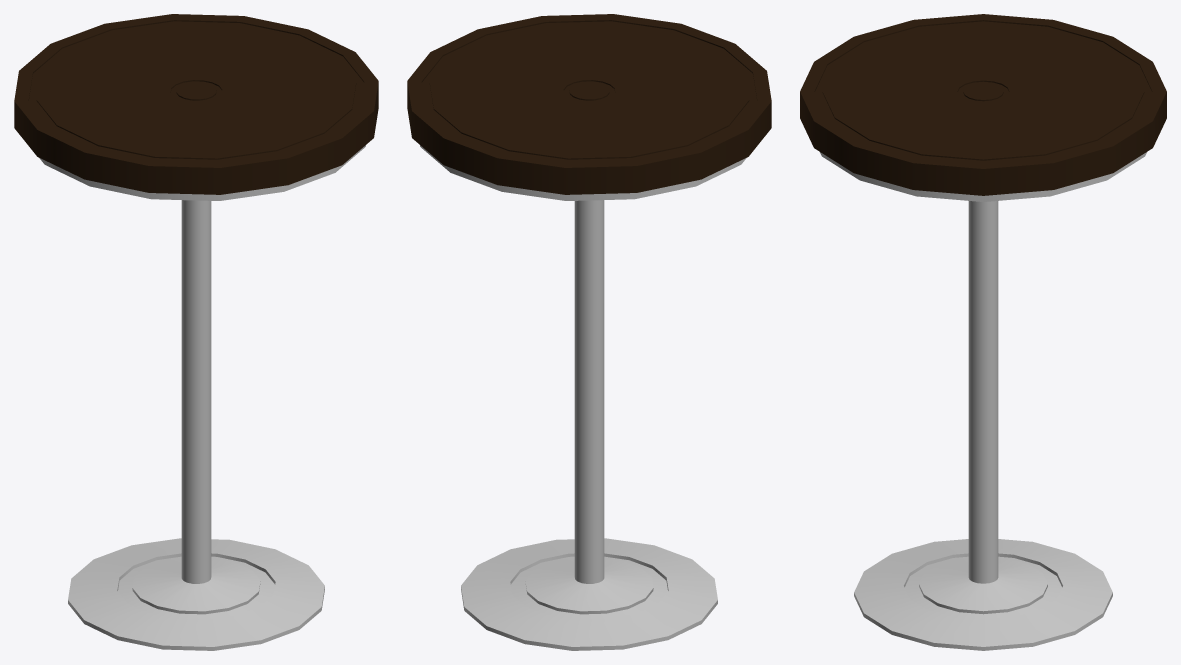
File: tableCTF.fbx
The picture shows the model from 3 angles, left to right: view 1: azimuth 30°, elevation 25°; view 2: azimuth 150°, elevation 25°; view 3: azimuth 270°, elevation 25°; orthographic projection.
Parts seen in each view (by area): view 1: Cylinder; view 2: Cylinder; view 3: Cylinder.
Boxes of the visible parts, box(x1,y1,x2,y2) form: Cylinder: box(14, 14, 378, 650); Cylinder: box(407, 14, 771, 650); Cylinder: box(800, 14, 1166, 650).
Size of the model in its own units: 76.4 by 116 by 76.4.
